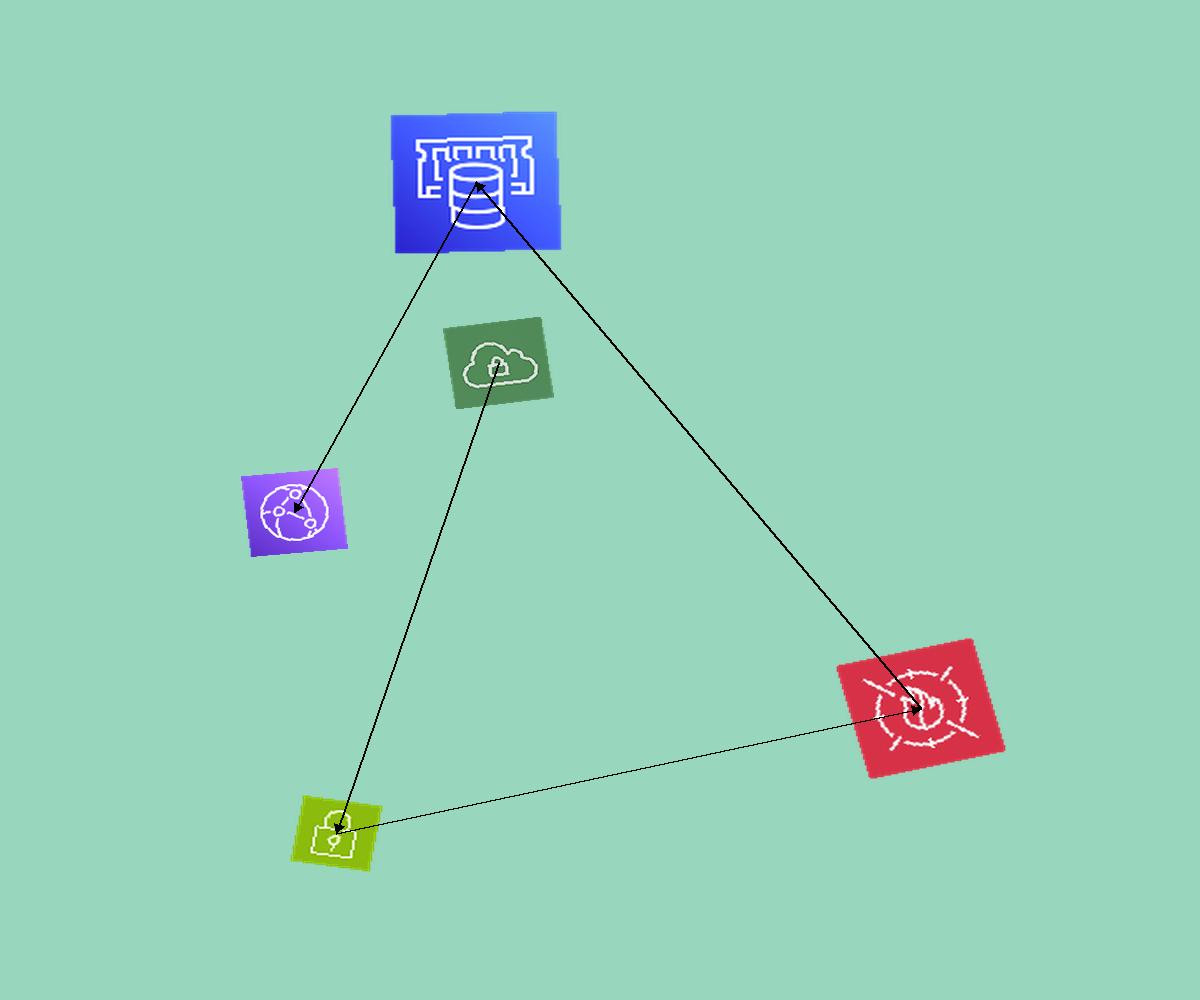AWS-CloudFront: (241, 468, 348, 557)
AWS-ElastiCache: (389, 110, 563, 255)
AWS-Private_vpc: (442, 316, 555, 410)
AWS-Public-subnet: (289, 794, 384, 873)
AWS-WAF: (835, 637, 1007, 780)
